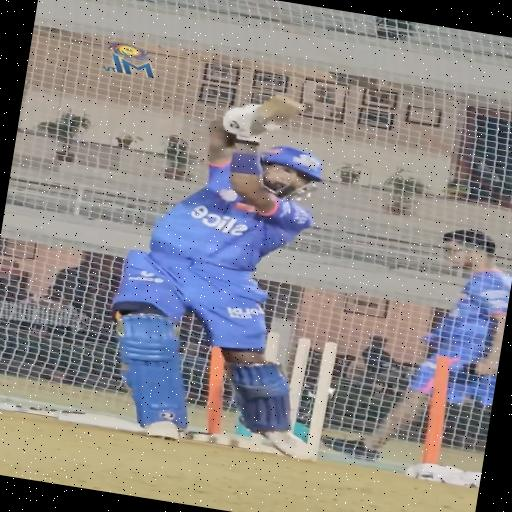Cricket bat: (258, 95, 304, 124)
